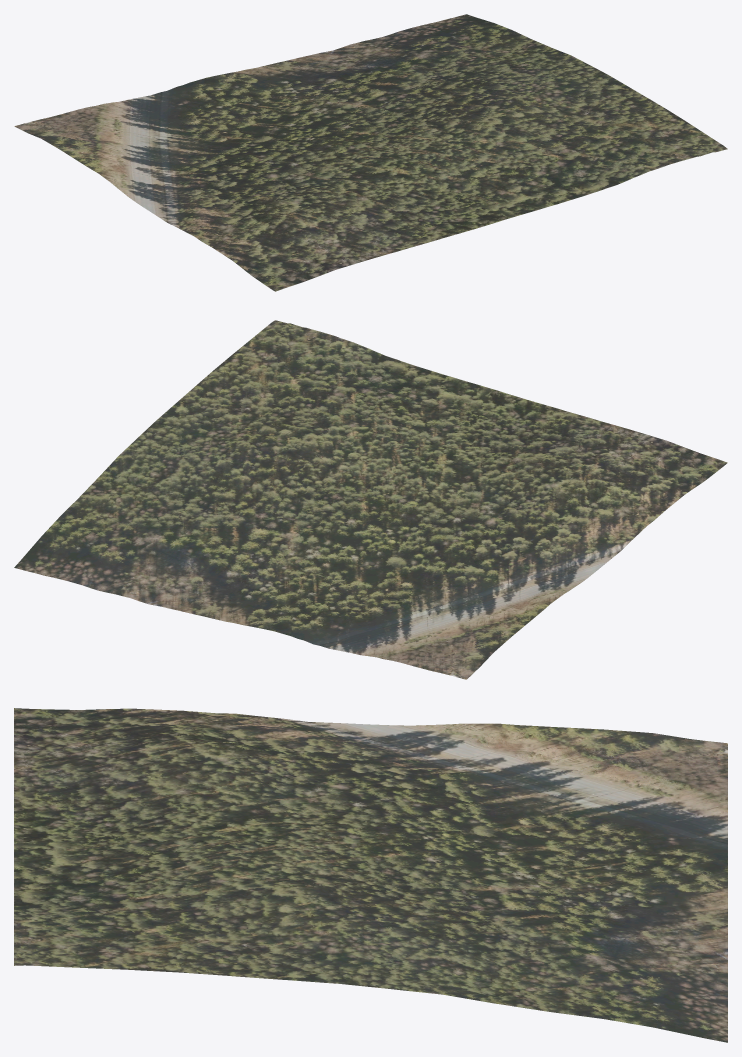
The model's file is CM_Terrain_24490254_6817746.fbx.
3 renders of one model, top to bottom at view 1: azimuth 30°, elevation 25°; view 2: azimuth 150°, elevation 25°; view 3: azimuth 270°, elevation 25°, orthographic. The views are drawn at different scales.
Visible parts, largest first — view 1: CM_Terrain_24490254_6817746_LOD0; view 2: CM_Terrain_24490254_6817746_LOD0; view 3: CM_Terrain_24490254_6817746_LOD0.
Boxes of the visible parts, <box> form: CM_Terrain_24490254_6817746_LOD0: <box>14,14,727,291</box>; CM_Terrain_24490254_6817746_LOD0: <box>14,320,727,679</box>; CM_Terrain_24490254_6817746_LOD0: <box>14,708,727,1042</box>.
Size of what is drawn, in the model's own units: 205 by 26.3 by 205.
